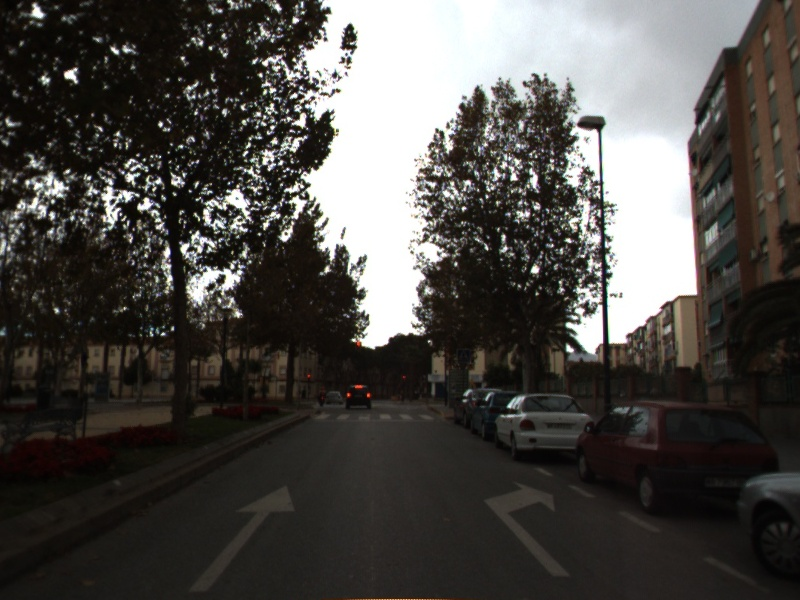RIGHT: (480, 477, 574, 581)
STRAIGHT: (187, 480, 299, 594)
